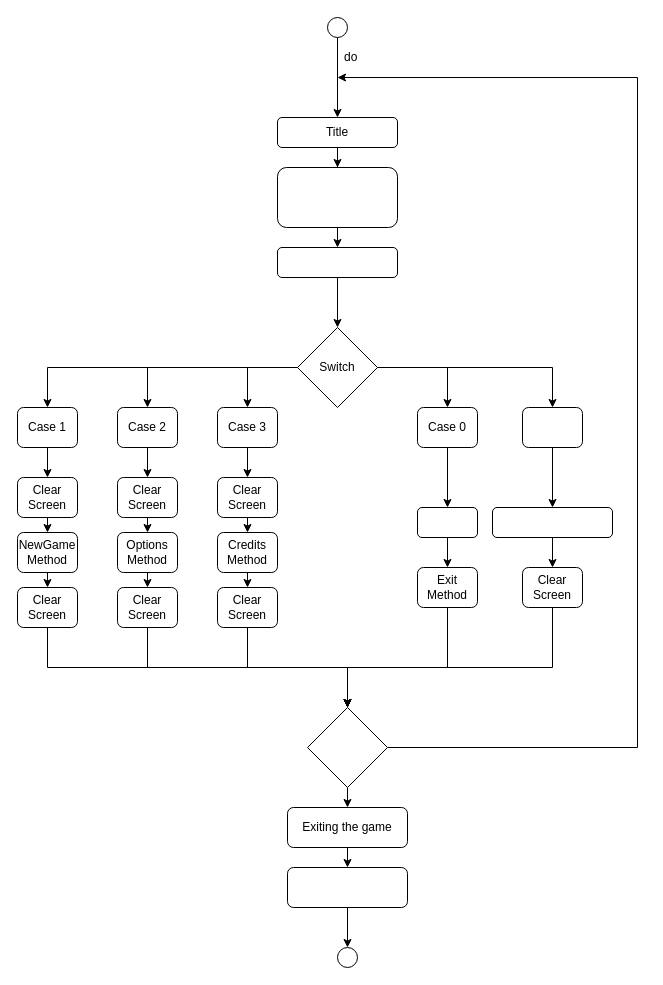
The diagram is 663 pixels wide and 985 high, and some of its shapes have lost their labels. Here are the shapes that lost their labels. From the top down, the centre of each, then its label:
At (337,197): "Nicely displayed menu options".
At (337,262): "Read input".
At (552,427): "default".
At (447,522): "Ask user".
At (552,522): "Enter valid input".
At (347,747): "While".
At (347,887): "Wait 2.5 seconds".
